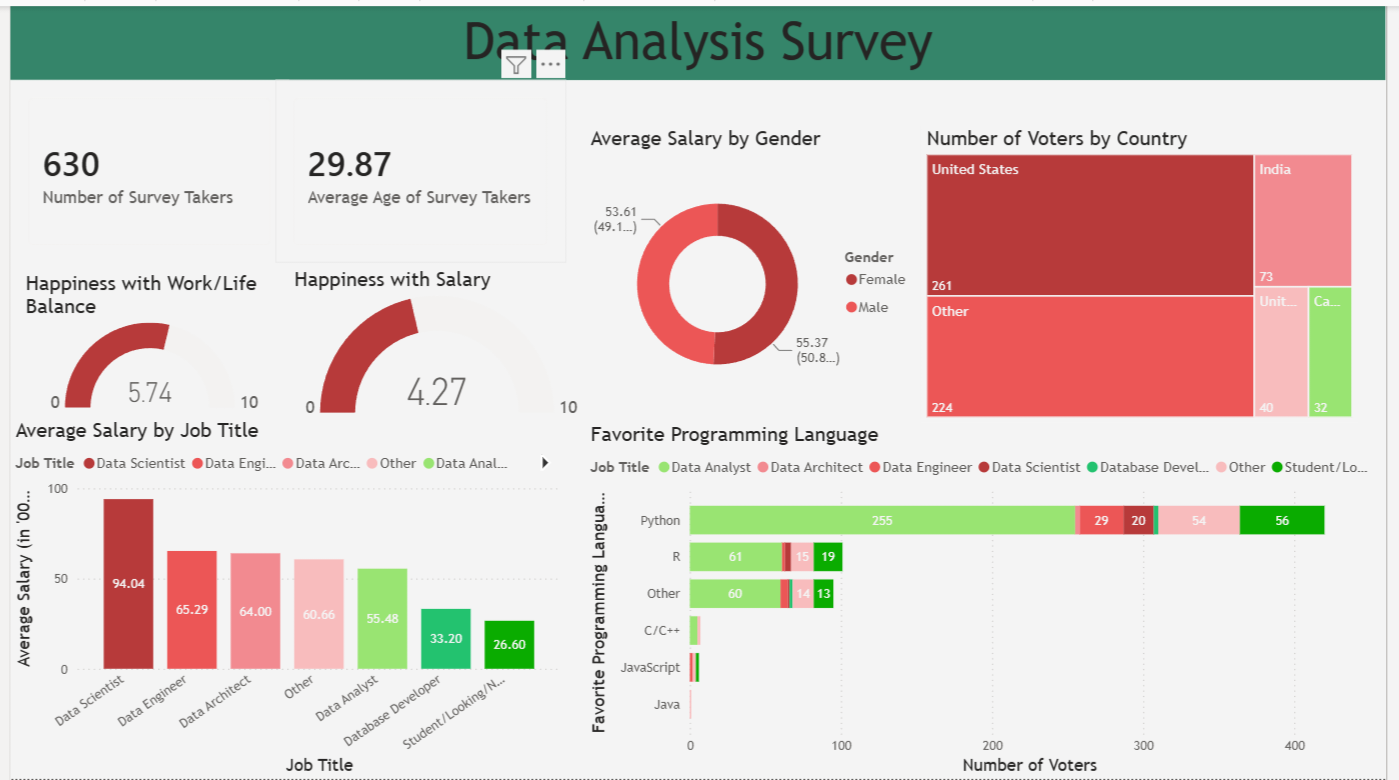

The dashboard page shown, as its layout file describes it:
{"tool":"powerbi","page":{"name":"Page 1","canvas":[1280,720],"ordinal":0},"visuals":[{"type":"textbox","box":[0,0,1279.3,68.8],"z":0},{"type":"cardVisual","fields":{"Data":["CountNonNull(Data Professional Survey.Unique ID)"]},"box":[0,68.8,259.2,171.3],"z":1000},{"type":"cardVisual","fields":{"Data":["Avg(Data Professional Survey.Q10 - Current Age)"]},"box":[246.8,68.8,270.5,171.3],"z":2000},{"type":"columnChart","title":"Average Salary by Job Title","fields":{"Category":["Data Professional Survey.Q1 - Which Title Best Fits your Current Role?.1"],"Y":["Avg(Data Professional Survey.Average Salary (in USD))"],"Series":["Data Professional Survey.Q1 - Which Title Best Fits your Current Role?.1"]},"box":[0,384.2,517.3,336.2],"z":3000},{"type":"barChart","title":"Favorite Programming Language","fields":{"Category":["Data Professional Survey.Q5 - Favorite Programming Language.1"],"Y":["CountNonNull(Data Professional Survey.Unique ID)"],"Series":["Data Professional Survey.Q1 - Which Title Best Fits your Current Role?.1"]},"box":[535.4,387.7,745,332.5],"z":4000},{"type":"treemap","fields":{"Values":["Count(Data Professional Survey.Unique ID)"],"Group":["Data Professional Survey.Q11 - Which Country do you live in?.1"]},"box":[847.6,111.6,405.8,276.1],"z":5000},{"type":"gauge","title":"Happiness with Work/Life Balance","fields":{"Y":["Avg(Data Professional Survey.Q6 - How Happy are you in your Current Position with the following? (Work/Life Balance))"],"MinValue":["Min(Data Professional Survey.Q6 - How Happy are you in your Current Position with the following? (Work/Life Balance))"],"MaxValue":["Max(Data Professional Survey.Q6 - How Happy are you in your Current Position with the following? (Work/Life Balance))"]},"box":[9.6,247,249.7,137.2],"z":6000},{"type":"gauge","title":"Happiness with Salary","fields":{"Y":["Avg(Data Professional Survey.Q6 - How Happy are you in your Current Position with the following? (Salary))"],"MinValue":["Min(Data Professional Survey.Q6 - How Happy are you in your Current Position with the following? (Salary))1"],"MaxValue":["Max(Data Professional Survey.Q6 - How Happy are you in your Current Position with the following? (Salary))2"]},"box":[259.3,242.9,284,145.5],"z":7000},{"type":"donutChart","fields":{"Category":["Data Professional Survey.Q9 - Male/Female?"],"Y":["Avg(Data Professional Survey.Average Salary (in USD))"]},"box":[535.4,111.6,312.2,272.8],"z":8000}]}

Visuals, with their boxes in screenshot pixels (x1, y1, x2, y2), scaled from the page's 1280x720 canvas onto the 1399x780 screenshot:
textbox: bbox=[0, 0, 1398, 75]
cardVisual - CountNonNull(Data Professional Survey.Unique ID): bbox=[0, 75, 283, 260]
cardVisual - Avg(Data Professional Survey.Q10 - Current Age): bbox=[270, 75, 565, 260]
"Average Salary by Job Title" columnChart: bbox=[0, 416, 565, 779]
"Favorite Programming Language" barChart: bbox=[585, 420, 1398, 779]
treemap - Count(Data Professional Survey.Unique ID) x Data Professional Survey.Q11 - Which Country do you live in?.1: bbox=[926, 121, 1370, 420]
"Happiness with Work/Life Balance" gauge: bbox=[10, 268, 283, 416]
"Happiness with Salary" gauge: bbox=[283, 263, 594, 421]
donutChart - Data Professional Survey.Q9 - Male/Female? x Avg(Data Professional Survey.Average Salary (in USD)): bbox=[585, 121, 926, 416]
